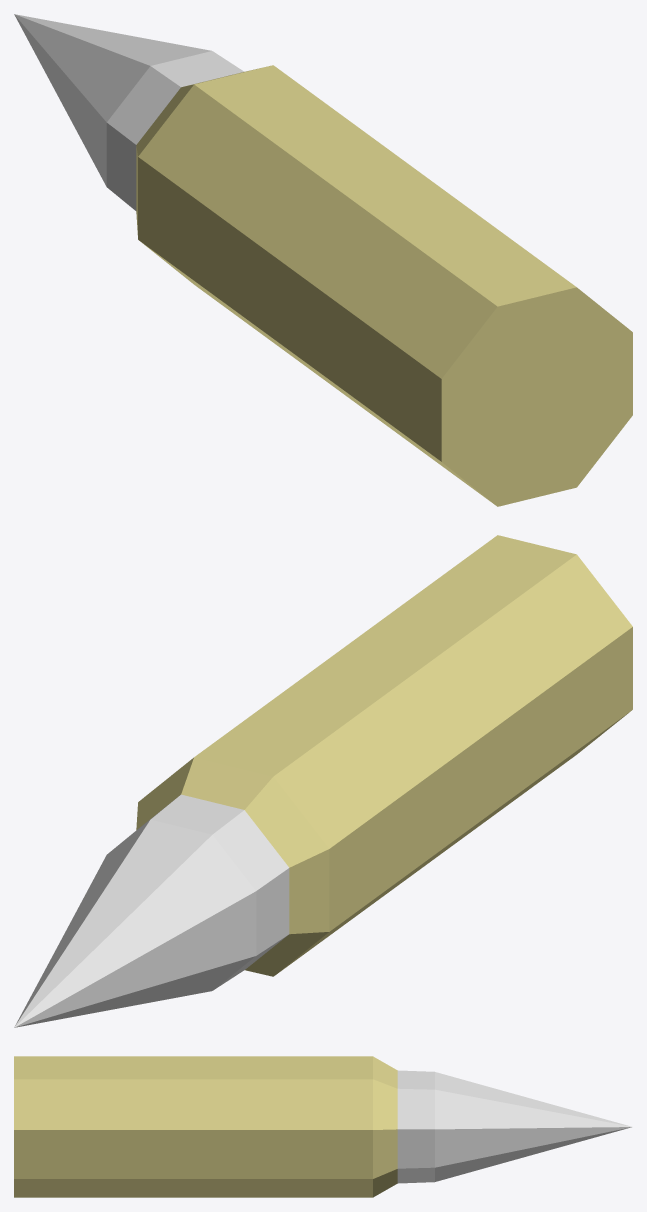
File: ce_ammo_highcal_ap_a.obj
3 views of the same model, one above another, from view 1: azimuth 30°, elevation 25°; view 2: azimuth 150°, elevation 25°; view 3: azimuth 270°, elevation 25° (orthographic). The views are drawn at different scales.
Parts seen in each view (by area): view 1: ce_ammo_highcal_ap_a_0, ce_ammo_highcal_ap_a_3, ce_ammo_highcal_ap_a_2, ce_ammo_highcal_ap_a_1; view 2: ce_ammo_highcal_ap_a_0, ce_ammo_highcal_ap_a_3, ce_ammo_highcal_ap_a_1, ce_ammo_highcal_ap_a_2; view 3: ce_ammo_highcal_ap_a_0, ce_ammo_highcal_ap_a_3, ce_ammo_highcal_ap_a_2, ce_ammo_highcal_ap_a_1.
Boxes of the visible parts, left/top/right/bottom form: ce_ammo_highcal_ap_a_0: left=138, top=65, right=632, bottom=506; ce_ammo_highcal_ap_a_3: left=14, top=14, right=211, bottom=186; ce_ammo_highcal_ap_a_2: left=106, top=51, right=243, bottom=210; ce_ammo_highcal_ap_a_1: left=136, top=68, right=260, bottom=234; ce_ammo_highcal_ap_a_0: left=194, top=535, right=632, bottom=974; ce_ammo_highcal_ap_a_3: left=14, top=819, right=256, bottom=1027; ce_ammo_highcal_ap_a_1: left=136, top=757, right=329, bottom=976; ce_ammo_highcal_ap_a_2: left=114, top=794, right=289, bottom=990; ce_ammo_highcal_ap_a_0: left=14, top=1056, right=372, bottom=1197; ce_ammo_highcal_ap_a_3: left=435, top=1072, right=631, bottom=1181; ce_ammo_highcal_ap_a_2: left=397, top=1070, right=434, bottom=1183; ce_ammo_highcal_ap_a_1: left=373, top=1056, right=397, bottom=1197.
Size of the model in its own units: 0.1478 by 0.1478 by 0.7.
